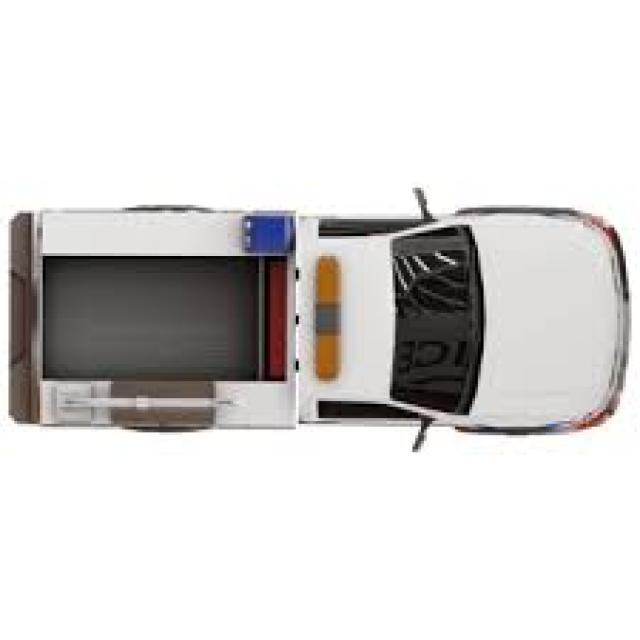truck: (11, 208, 624, 433)
